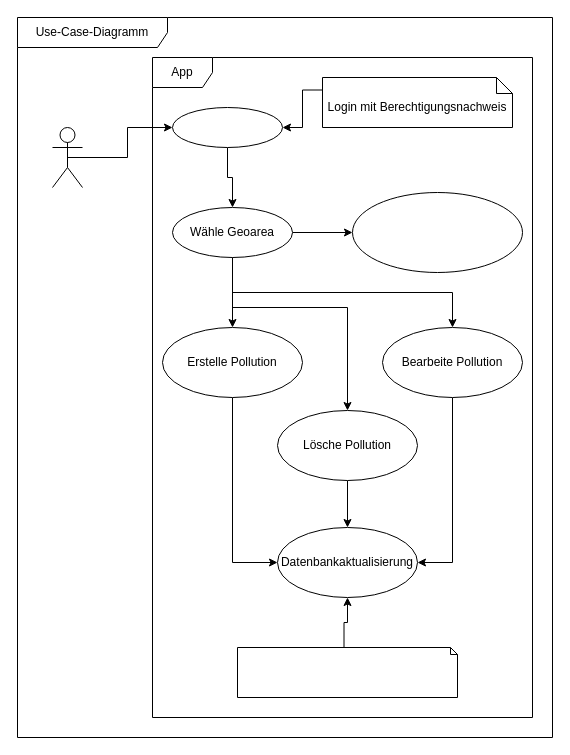
Some shapes in this 570 by 755 pixel diagram are drawn without their labels. Each missing label, with the box of its shape:
Automatische Aktualisierung der Datenbank: (236, 646, 458, 698)
Beamter: (52, 126, 82, 188)
Lese aktuelle Pollutions: (352, 192, 522, 272)
Login: (172, 106, 282, 148)
